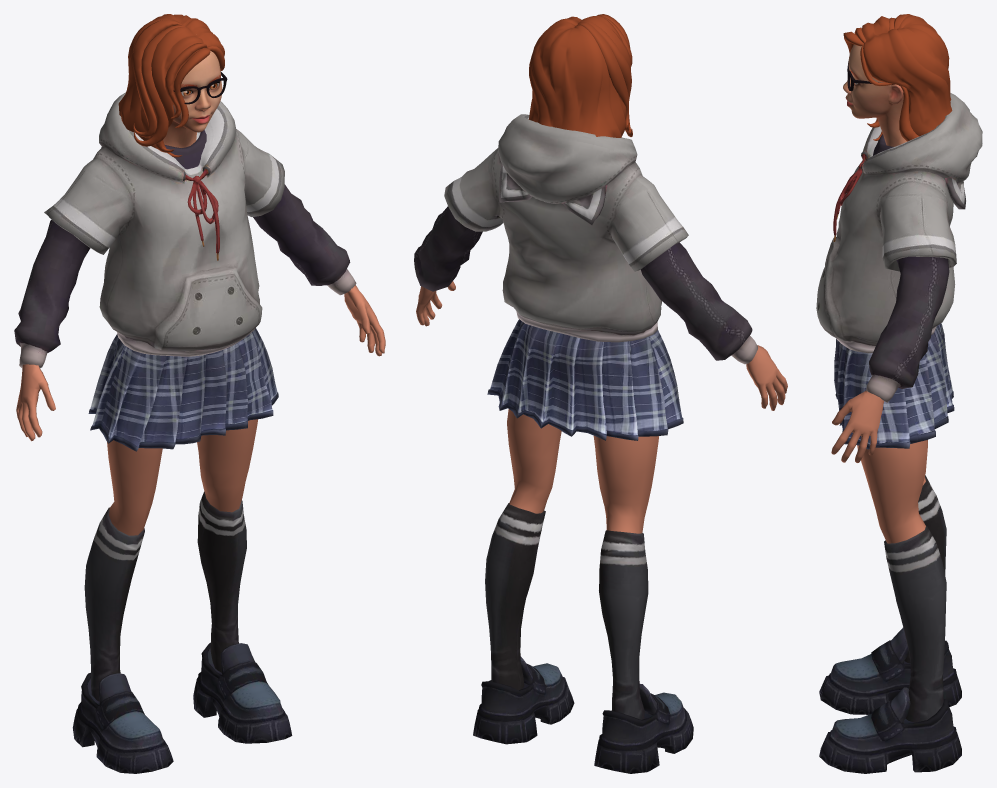
The model's file is ตัวละคร 01 ทำที่เว็บมา.glb.
3 renders of one model, left to right at view 1: azimuth 30°, elevation 25°; view 2: azimuth 150°, elevation 25°; view 3: azimuth 270°, elevation 25°, orthographic.
Visible parts, largest first — view 1: Wolf3D_Outfit_Top, Wolf3D_Outfit_Bottom, Wolf3D_Outfit_Footwear, Wolf3D_Body, hair-60, Wolf3D_Head; view 2: Wolf3D_Outfit_Top, Wolf3D_Outfit_Bottom, Wolf3D_Body, Wolf3D_Outfit_Footwear, hair-60; view 3: Wolf3D_Outfit_Top, Wolf3D_Outfit_Bottom, Wolf3D_Outfit_Footwear, hair-60, Wolf3D_Body, Wolf3D_Head.
Boxes of the visible parts, bbox=[...] form: Wolf3D_Outfit_Top: bbox=[14, 92, 356, 368]; Wolf3D_Outfit_Bottom: bbox=[84, 328, 278, 701]; Wolf3D_Outfit_Footwear: bbox=[72, 643, 292, 773]; Wolf3D_Body: bbox=[16, 285, 385, 535]; hair-60: bbox=[118, 14, 224, 157]; Wolf3D_Head: bbox=[163, 51, 222, 147]; Wolf3D_Outfit_Top: bbox=[414, 114, 757, 364]; Wolf3D_Outfit_Bottom: bbox=[485, 319, 683, 719]; Wolf3D_Body: bbox=[416, 281, 787, 533]; Wolf3D_Outfit_Footwear: bbox=[473, 656, 693, 773]; hair-60: bbox=[528, 14, 632, 137]; Wolf3D_Outfit_Top: bbox=[816, 93, 982, 402]; Wolf3D_Outfit_Bottom: bbox=[834, 323, 954, 722]; Wolf3D_Outfit_Footwear: bbox=[819, 627, 961, 773]; hair-60: bbox=[843, 14, 952, 141]; Wolf3D_Body: bbox=[831, 390, 927, 543]; Wolf3D_Head: bbox=[843, 44, 906, 146].
Bounding box in the file's own units: 0.9279 × 1.76 × 0.374.
Materials: 9 (9 with a texture image).
